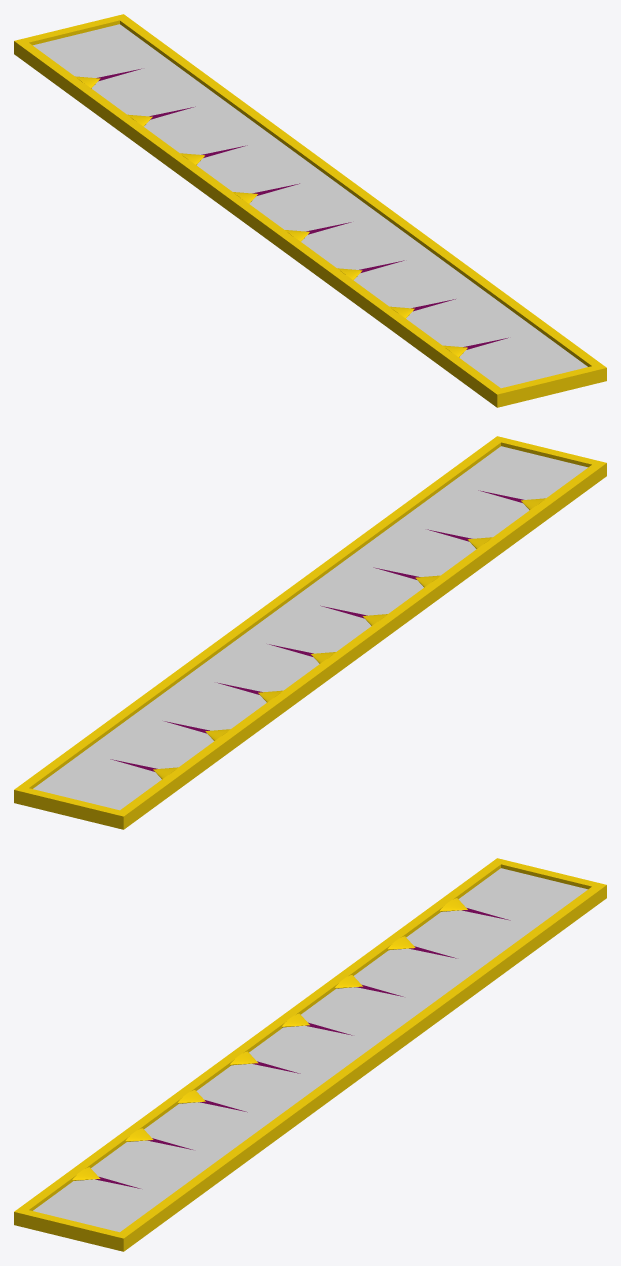
Rendered from hero areas.fbx.
The picture shows the model from 3 angles, top to bottom: view 1: azimuth 30°, elevation 25°; view 2: azimuth 150°, elevation 25°; view 3: azimuth 330°, elevation 25°; orthographic projection.
Parts seen in each view (by area): view 1: Cube.019, Cube.006, Cube.003, Cube, Cube.005, Cube.001, Cube.004, Cube.007, Cube.002, Cube.009; view 2: Cube.019, Cube.009, Cube.003, Cube.005, Cube, Cube.004, Cube.001, Cube.002, Cube.007, Cube.006; view 3: Cube.019, Cube.006, Cube.003, Cube.002, Cube.005, Cube, Cube.001, Cube.004, Cube.007, Cube.009.
Part boxes in pixels (x1,y1,x2,y2): Cube.019: (14,14,606,407); Cube.006: (33,24,171,77); Cube.003: (406,293,539,346); Cube: (301,216,434,269); Cube.005: (144,101,276,154); Cube.001: (249,178,381,231); Cube.004: (196,139,329,193); Cube.007: (92,62,224,116); Cube.002: (353,254,486,308); Cube.009: (459,331,587,388); Cube.019: (14,436,606,829); Cube.009: (449,446,587,499); Cube.003: (396,484,529,538); Cube.005: (134,676,266,730); Cube: (291,561,423,615); Cube.004: (186,638,319,692); Cube.001: (239,600,371,653); Cube.002: (344,523,476,576); Cube.007: (82,715,213,768); Cube.006: (33,753,161,810); Cube.019: (14,858,606,1251); Cube.006: (458,868,587,927); Cube.003: (91,1140,220,1196); Cube.002: (144,1102,272,1157); Cube.005: (354,948,482,1004); Cube: (196,1063,325,1119); Cube.001: (249,1025,377,1081); Cube.004: (301,987,430,1042); Cube.007: (406,910,534,965); Cube.009: (33,1179,167,1232).
Size of the model in its own units: 241 by 28.36 by 1838.
